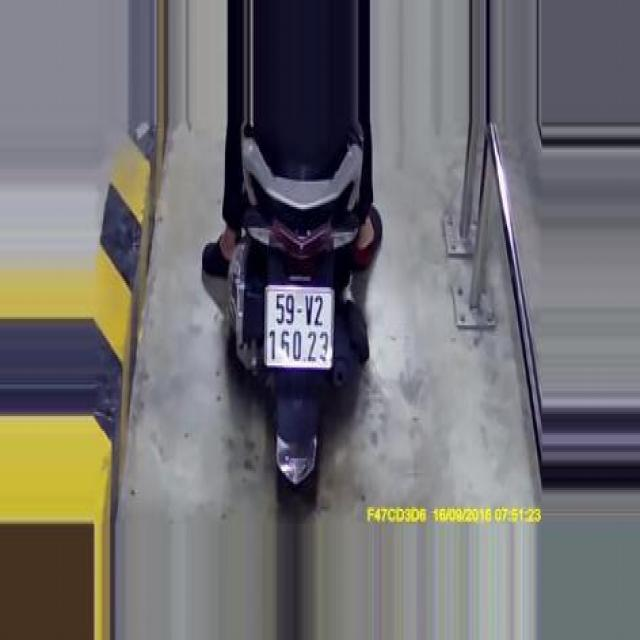License-Plates: (262, 277, 336, 377)
